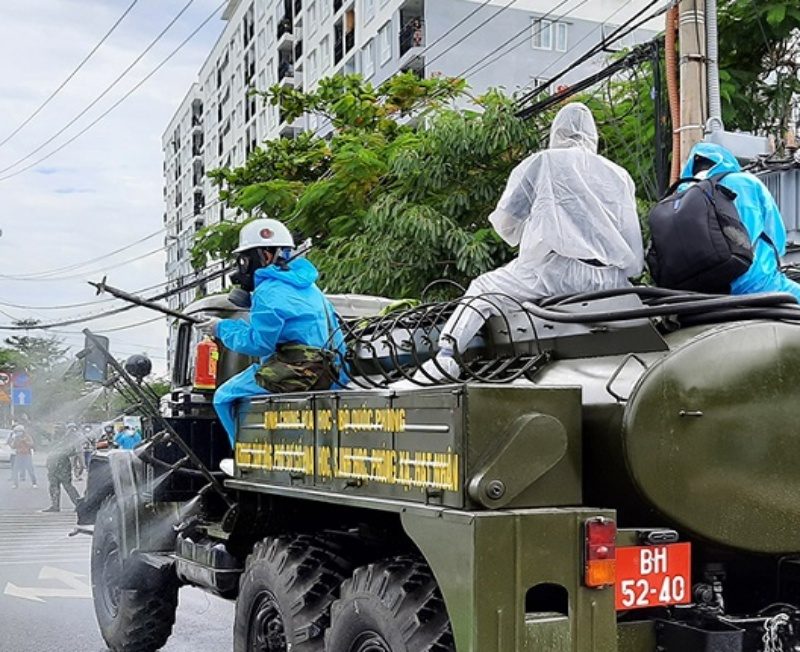plate: (612, 540, 696, 612)
